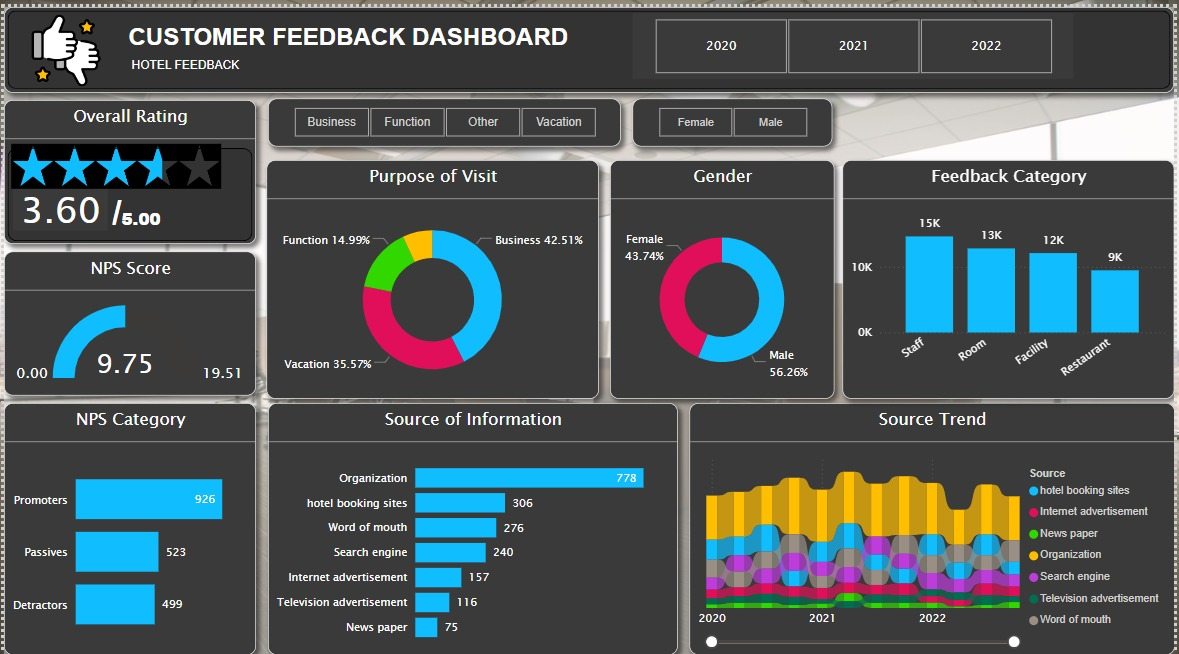

What the dashboard file says about the page in this screenshot:
{"tool":"powerbi","page":{"name":"Page 1","canvas":[1300,720],"ordinal":0},"visuals":[{"type":"shape","box":[0,0,1300,95],"z":0},{"type":"shape","title":"Overall Rating","box":[0,103.8,280.1,160.3],"z":1000},{"type":"slicer","fields":{"Values":["General.Purpose"]},"box":[293.1,102.2,391.9,53.4],"z":2000},{"type":"slicer","fields":{"Values":["General.Gender"]},"box":[697.9,102.2,221.8,53.4],"z":3000},{"type":"gauge","fields":{"Y":["General.NPS Score"]},"box":[0,272.2,280.1,160.3],"z":4000},{"type":"clusteredBarChart","title":"NPS Category","fields":{"Category":["General.NPS"],"Y":["CountNonNull(General.NPS)"]},"box":[0,440.4,280.1,280.1],"z":5000},{"type":"donutChart","title":"Purpose of Visit","fields":{"Category":["General.Purpose"],"Y":["CountNonNull(General.Purpose)"]},"box":[291.5,170.2,369.2,265.6],"z":6000},{"type":"donutChart","title":"Gender","fields":{"Category":["General.Gender"],"Y":["CountNonNull(General.Gender)"]},"box":[673.6,170.2,249.4,265.6],"z":7000},{"type":"clusteredBarChart","title":"Source of Information","fields":{"Category":["General.Source"],"Y":["CountNonNull(General.Source)"]},"box":[293.1,440.4,455,280.1],"z":8000},{"type":"ribbonChart","title":"Source Trend","fields":{"Series":["General.Source"],"Y":["CountNonNull(General.Source)"],"Category":["General.Checkout Date (bins)"]},"box":[761,440.4,539.2,280.1],"z":9000},{"type":"clusteredColumnChart","title":"Feedback Category","fields":{"Category":["Feedback.Feedback","Feedback.Feedback Category"],"Y":["Sum(Feedback.Rating Score)"]},"box":[931.7,170,368.3,265],"z":10000},{"type":"card","fields":{"Values":["Avg(General.Overall Experience)"]},"box":[9.7,197.5,105.2,50.2],"z":11000},{"type":"textbox","box":[115,194.3,165.2,63.1],"z":12000},{"type":"clusteredBarChart","fields":{"Y":["Avg(General.Overall Experience)"]},"box":[5,86.2,193.8,178.8],"z":13000},{"type":"image","box":[0,146.2,248.8,60],"z":14000},{"type":"textbox","box":[133.3,12.8,525,40],"z":15000},{"type":"textbox","box":[136.1,52.2,291.7,25],"z":16000},{"type":"slicer","fields":{"Values":["General.Checkout Date.Variation.Date Hierarchy.Year"]},"box":[698.3,6.7,490,73.3],"z":17000},{"type":"image","box":[16.7,0,101.7,95],"z":18000}]}

Visuals, with their boxes in screenshot pixels (x1, y1, x2, y2), scaled from the page's 1300x720 canvas onto the 1179x654 screenshot:
shape: [x1=0, y1=0, x2=1178, y2=86]
"Overall Rating" shape: [x1=0, y1=94, x2=254, y2=240]
slicer - General.Purpose: [x1=266, y1=93, x2=621, y2=141]
slicer - General.Gender: [x1=633, y1=93, x2=834, y2=141]
gauge - General.NPS Score: [x1=0, y1=247, x2=254, y2=393]
"NPS Category" clusteredBarChart: [x1=0, y1=400, x2=254, y2=653]
"Purpose of Visit" donutChart: [x1=264, y1=155, x2=599, y2=396]
"Gender" donutChart: [x1=611, y1=155, x2=837, y2=396]
"Source of Information" clusteredBarChart: [x1=266, y1=400, x2=678, y2=653]
"Source Trend" ribbonChart: [x1=690, y1=400, x2=1178, y2=653]
"Feedback Category" clusteredColumnChart: [x1=845, y1=154, x2=1178, y2=395]
card - Avg(General.Overall Experience): [x1=9, y1=179, x2=104, y2=225]
textbox: [x1=104, y1=176, x2=254, y2=234]
clusteredBarChart - Avg(General.Overall Experience): [x1=5, y1=78, x2=180, y2=241]
image: [x1=0, y1=133, x2=226, y2=187]
textbox: [x1=121, y1=12, x2=597, y2=48]
textbox: [x1=123, y1=47, x2=388, y2=70]
slicer - General.Checkout Date.Variation.Date Hierarchy.Year: [x1=633, y1=6, x2=1078, y2=73]
image: [x1=15, y1=0, x2=107, y2=86]
